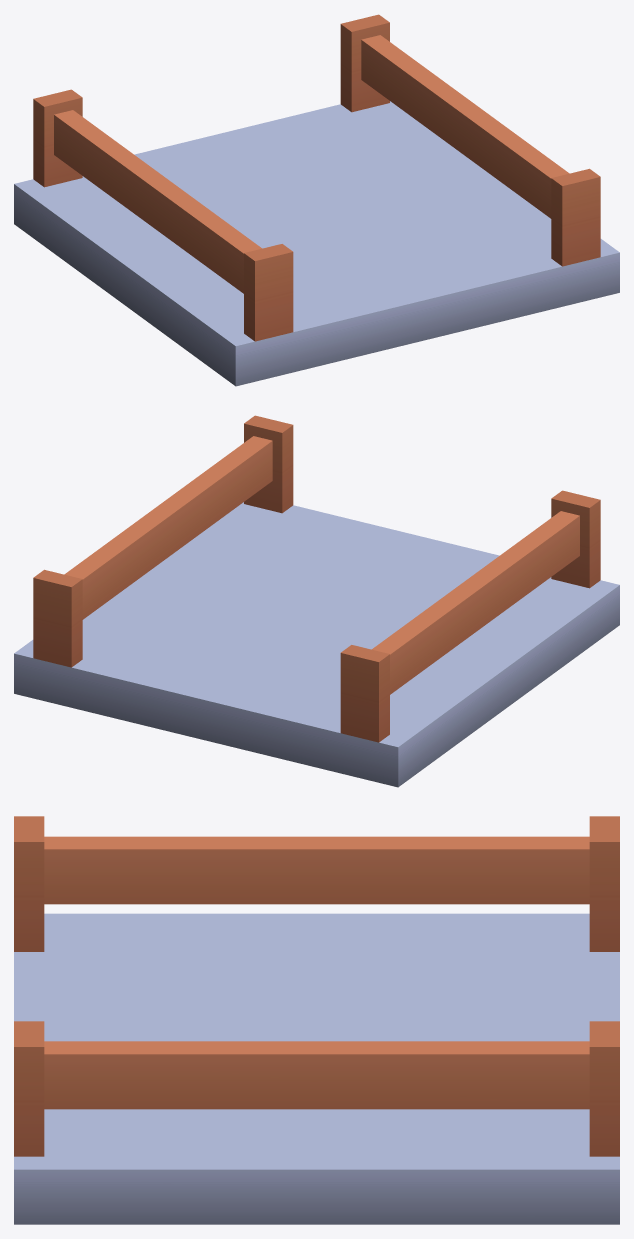
File: kenney-coaster-path-straight.glb
The picture shows the model from 3 angles, top to bottom: view 1: azimuth 30°, elevation 25°; view 2: azimuth 150°, elevation 25°; view 3: azimuth 270°, elevation 25°; orthographic projection. The views are drawn at different scales.
Parts seen in each view (by area): view 1: path-straight; view 2: path-straight; view 3: path-straight.
Part boxes in pixels (bbox=[...]): path-straight: bbox=[14, 14, 619, 386]; path-straight: bbox=[14, 415, 619, 787]; path-straight: bbox=[14, 816, 619, 1224].
Bounding box in the file's own units: 1 × 0.3 × 1.
Materials: 1 (1 with a texture image).
